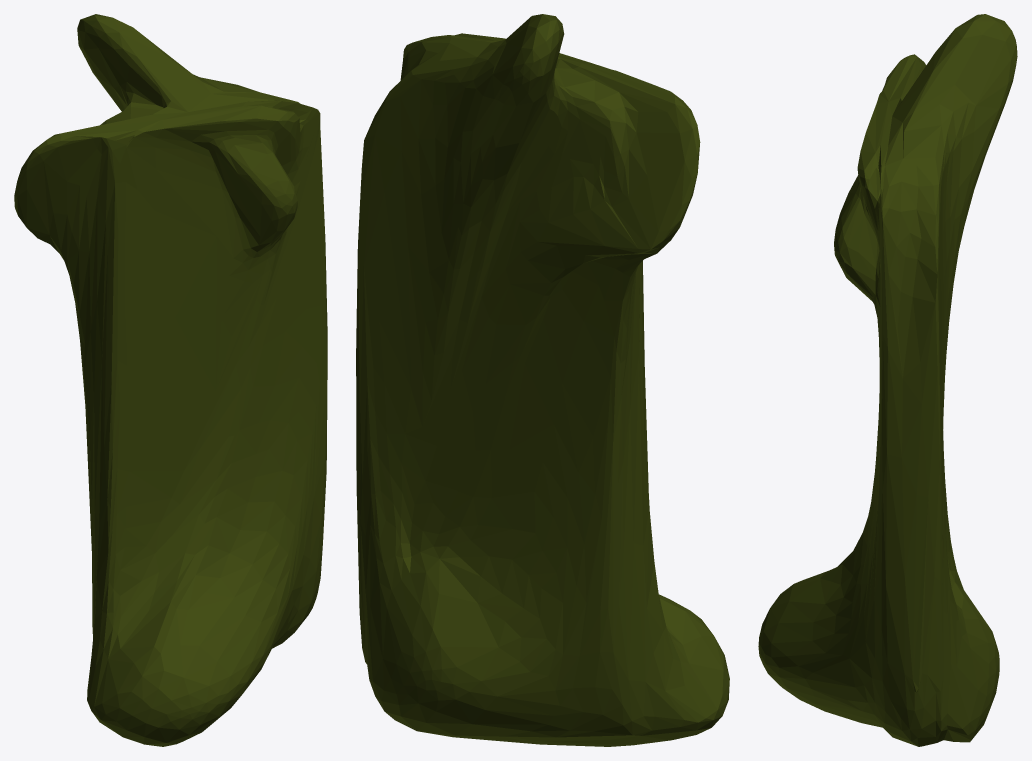
3 renders of one model, left to right at view 1: azimuth 30°, elevation 25°; view 2: azimuth 150°, elevation 25°; view 3: azimuth 270°, elevation 25°, orthographic. The views are drawn at different scales.
Parts seen in each view (by area): view 1: 353_Cube.1443; view 2: 353_Cube.1443; view 3: 353_Cube.1443.
Boxes of the visible parts, x1=… form: 353_Cube.1443: x1=14, y1=14, x2=327, y2=746; 353_Cube.1443: x1=356, y1=14, x2=729, y2=746; 353_Cube.1443: x1=758, y1=14, x2=1017, y2=746.
Size of the model in its own units: 6.62 by 14.37 by 4.89.
